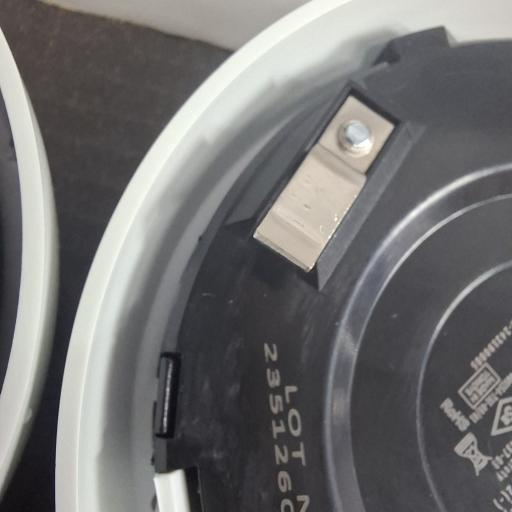yaysiz: (252, 93, 396, 275)
